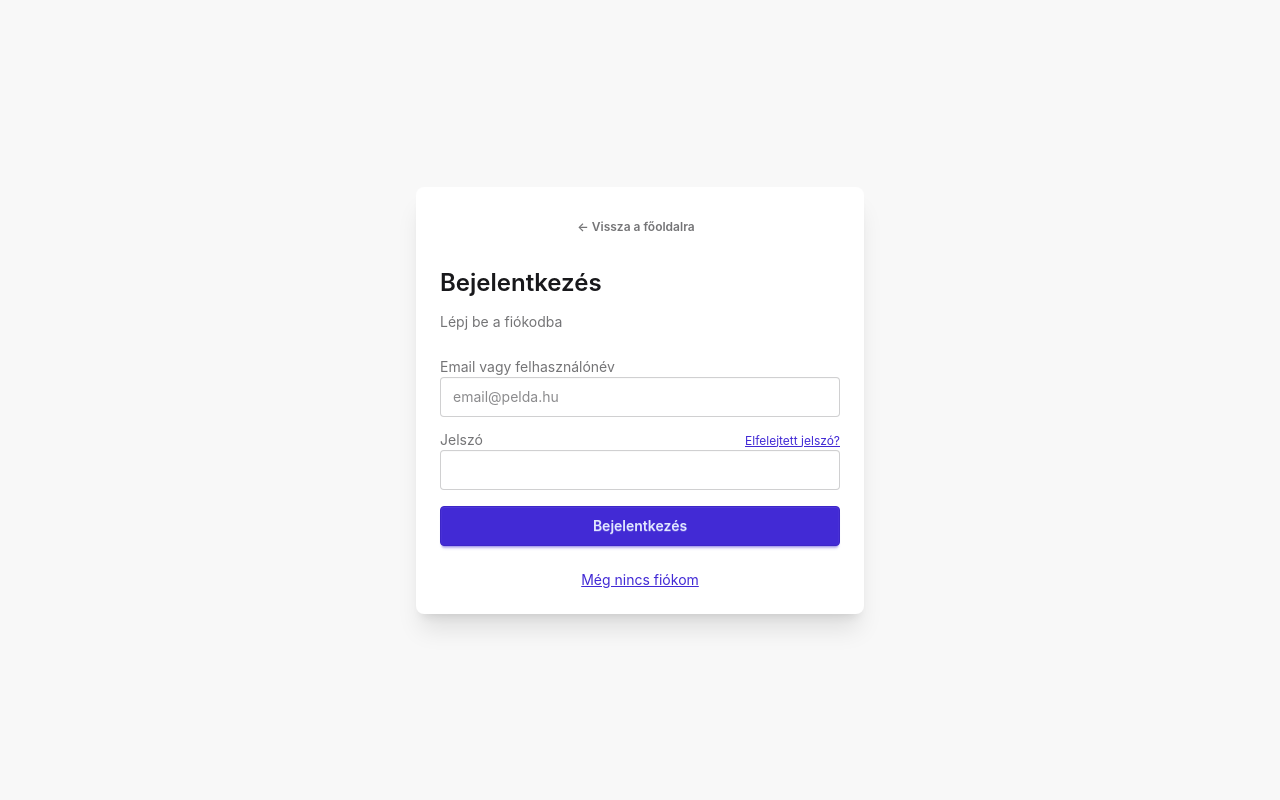
Test: Navigation › navigates from login page back to main page
The width and height of the screenshot is (1280, 800).
Click the link "← Vissza a főoldalra" at (636, 227), box [432, 211, 840, 243]
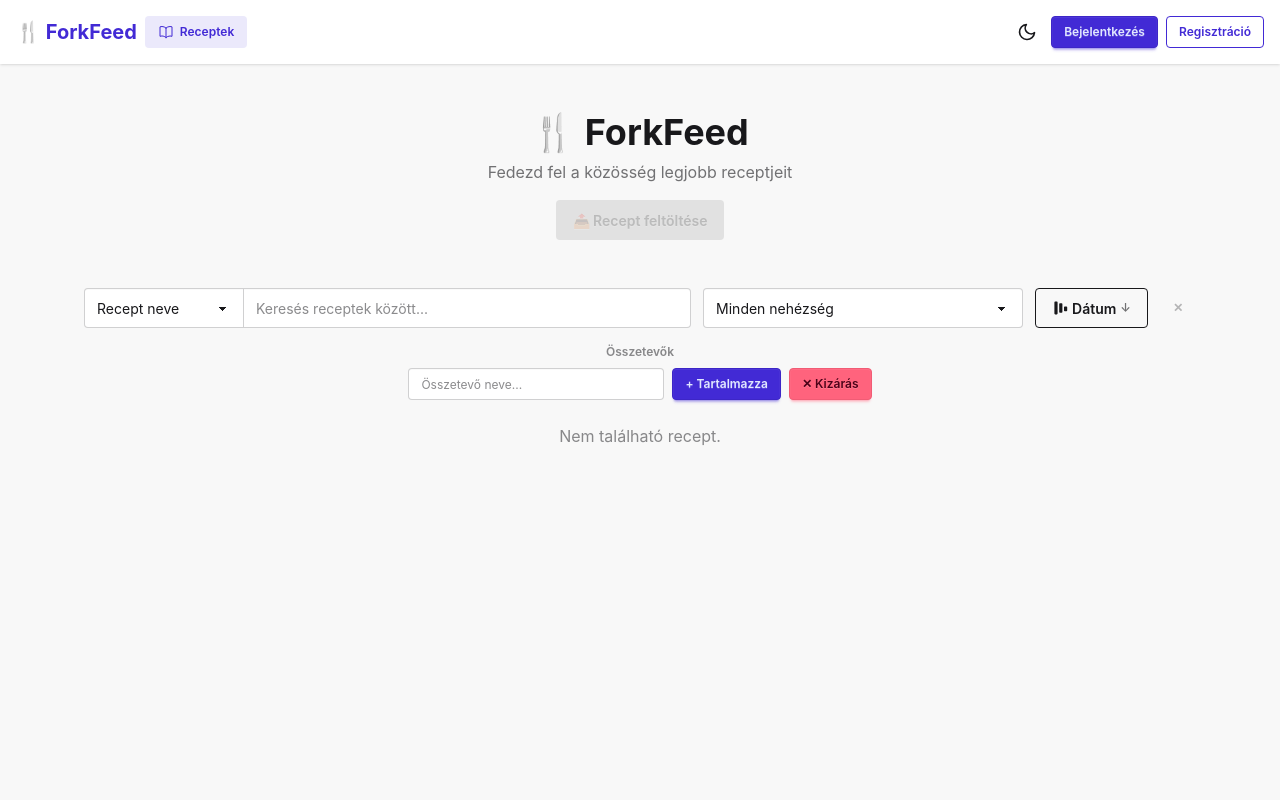
expect the heading "🍴 ForkFeed" is shown: met, box [531, 110, 749, 154]
